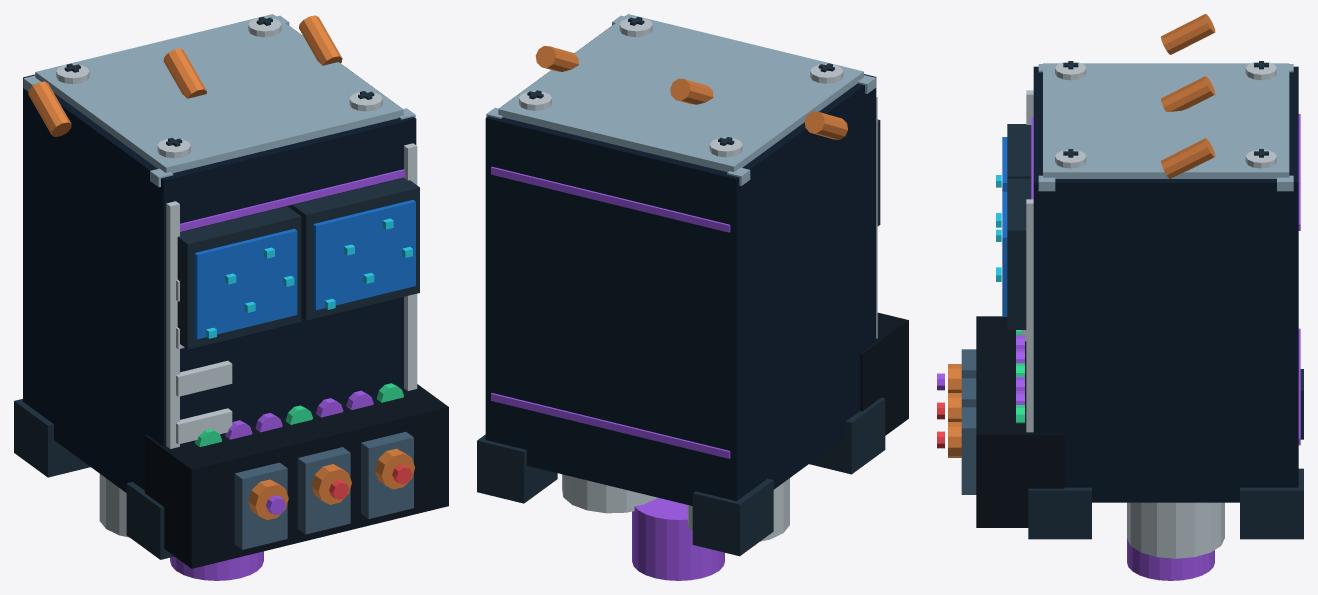
The model's file is 38_L77_DualWavelengthBarrierEndpointSpectrometer.fbx.
The picture shows the model from 3 angles, left to right: view 1: azimuth 30°, elevation 25°; view 2: azimuth 150°, elevation 25°; view 3: azimuth 270°, elevation 25°; orthographic projection. The views are drawn at different scales.
Visible parts, largest first — view 1: DualWavelengthBarrierEndpointSpectrometer_Part_0000, DualWavelengthBarrierEndpointSpectrometer_Part_0007, DualWavelengthBarrierEndpointSpectrometer_Part_0049, DualWavelengthBarrierEndpointSpectrometer_Part_0025, DualWavelengthBarrierEndpointSpectrometer_Part_0032, DualWavelengthBarrierEndpointSpectrometer_Part_0024, DualWavelengthBarrierEndpointSpectrometer_Part_0031, DualWavelengthBarrierEndpointSpectrometer_Part_0050, DualWavelengthBarrierEndpointSpectrometer_Part_0053, DualWavelengthBarrierEndpointSpectrometer_Part_0045, DualWavelengthBarrierEndpointSpectrometer_Part_0056, DualWavelengthBarrierEndpointSpectrometer_Part_0005 (+13 smaller); view 2: DualWavelengthBarrierEndpointSpectrometer_Part_0000, DualWavelengthBarrierEndpointSpectrometer_Part_0007, DualWavelengthBarrierEndpointSpectrometer_Part_0069, DualWavelengthBarrierEndpointSpectrometer_Part_0045, DualWavelengthBarrierEndpointSpectrometer_Part_0049, DualWavelengthBarrierEndpointSpectrometer_Part_0047, DualWavelengthBarrierEndpointSpectrometer_Part_0046, DualWavelengthBarrierEndpointSpectrometer_Part_0068, DualWavelengthBarrierEndpointSpectrometer_Part_0022, DualWavelengthBarrierEndpointSpectrometer_Part_0020, DualWavelengthBarrierEndpointSpectrometer_Part_0067, DualWavelengthBarrierEndpointSpectrometer_Part_0064 (+2 smaller); view 3: DualWavelengthBarrierEndpointSpectrometer_Part_0000, DualWavelengthBarrierEndpointSpectrometer_Part_0007, DualWavelengthBarrierEndpointSpectrometer_Part_0049, DualWavelengthBarrierEndpointSpectrometer_Part_0068, DualWavelengthBarrierEndpointSpectrometer_Part_0047, DualWavelengthBarrierEndpointSpectrometer_Part_0048, DualWavelengthBarrierEndpointSpectrometer_Part_0031, DualWavelengthBarrierEndpointSpectrometer_Part_0069, DualWavelengthBarrierEndpointSpectrometer_Part_0006, DualWavelengthBarrierEndpointSpectrometer_Part_0056, DualWavelengthBarrierEndpointSpectrometer_Part_0024, DualWavelengthBarrierEndpointSpectrometer_Part_0064 (+6 smaller).
Boxes of the visible parts, x1,y1,x2,y2 form: DualWavelengthBarrierEndpointSpectrometer_Part_0000: [23, 25, 416, 492]; DualWavelengthBarrierEndpointSpectrometer_Part_0007: [35, 14, 403, 173]; DualWavelengthBarrierEndpointSpectrometer_Part_0049: [145, 384, 448, 568]; DualWavelengthBarrierEndpointSpectrometer_Part_0025: [194, 228, 297, 339]; DualWavelengthBarrierEndpointSpectrometer_Part_0032: [313, 200, 415, 310]; DualWavelengthBarrierEndpointSpectrometer_Part_0024: [177, 206, 301, 349]; DualWavelengthBarrierEndpointSpectrometer_Part_0031: [292, 178, 419, 320]; DualWavelengthBarrierEndpointSpectrometer_Part_0050: [234, 462, 287, 549]; DualWavelengthBarrierEndpointSpectrometer_Part_0053: [297, 447, 350, 534]; DualWavelengthBarrierEndpointSpectrometer_Part_0045: [14, 399, 90, 477]; DualWavelengthBarrierEndpointSpectrometer_Part_0056: [361, 431, 413, 518]; DualWavelengthBarrierEndpointSpectrometer_Part_0005: [166, 201, 179, 448]; DualWavelengthBarrierEndpointSpectrometer_Part_0000: [485, 27, 876, 505]; DualWavelengthBarrierEndpointSpectrometer_Part_0007: [498, 14, 863, 172]; DualWavelengthBarrierEndpointSpectrometer_Part_0069: [632, 497, 724, 580]; DualWavelengthBarrierEndpointSpectrometer_Part_0045: [692, 478, 773, 556]; DualWavelengthBarrierEndpointSpectrometer_Part_0049: [860, 312, 908, 435]; DualWavelengthBarrierEndpointSpectrometer_Part_0047: [477, 434, 557, 503]; DualWavelengthBarrierEndpointSpectrometer_Part_0046: [809, 397, 885, 474]; DualWavelengthBarrierEndpointSpectrometer_Part_0068: [562, 474, 657, 513]; DualWavelengthBarrierEndpointSpectrometer_Part_0022: [491, 166, 730, 232]; DualWavelengthBarrierEndpointSpectrometer_Part_0020: [491, 393, 730, 458]; DualWavelengthBarrierEndpointSpectrometer_Part_0067: [687, 478, 789, 541]; DualWavelengthBarrierEndpointSpectrometer_Part_0064: [804, 111, 847, 139]; DualWavelengthBarrierEndpointSpectrometer_Part_0000: [1033, 66, 1298, 502]; DualWavelengthBarrierEndpointSpectrometer_Part_0007: [1043, 63, 1289, 178]; DualWavelengthBarrierEndpointSpectrometer_Part_0049: [976, 316, 1064, 527]; DualWavelengthBarrierEndpointSpectrometer_Part_0068: [1127, 502, 1224, 558]; DualWavelengthBarrierEndpointSpectrometer_Part_0047: [1240, 468, 1303, 539]; DualWavelengthBarrierEndpointSpectrometer_Part_0048: [1028, 487, 1091, 539]; DualWavelengthBarrierEndpointSpectrometer_Part_0031: [1007, 178, 1031, 329]; DualWavelengthBarrierEndpointSpectrometer_Part_0069: [1127, 539, 1214, 580]; DualWavelengthBarrierEndpointSpectrometer_Part_0006: [1026, 199, 1033, 432]; DualWavelengthBarrierEndpointSpectrometer_Part_0056: [961, 407, 976, 494]; DualWavelengthBarrierEndpointSpectrometer_Part_0024: [1007, 124, 1031, 178]; DualWavelengthBarrierEndpointSpectrometer_Part_0064: [1161, 14, 1215, 54].
Bounding box in the file's own units: 66.51 × 107 × 74.8.
